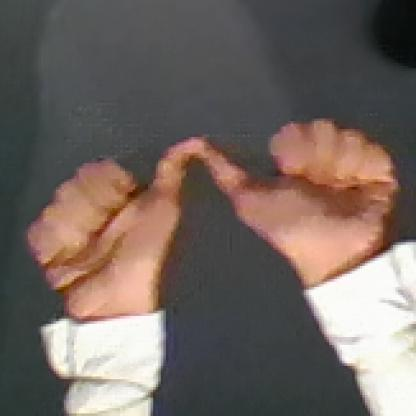A: (15, 102, 414, 282)
